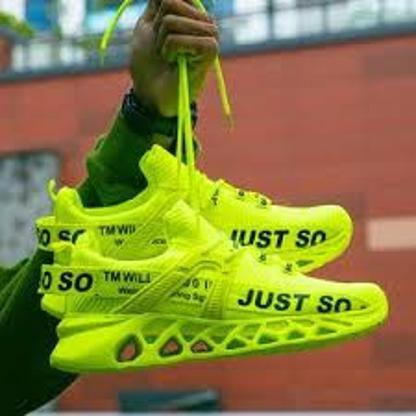not trash: (39, 142, 389, 366)
